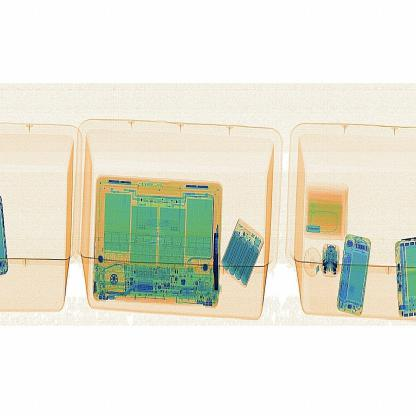pliers: (207, 220, 223, 285)
